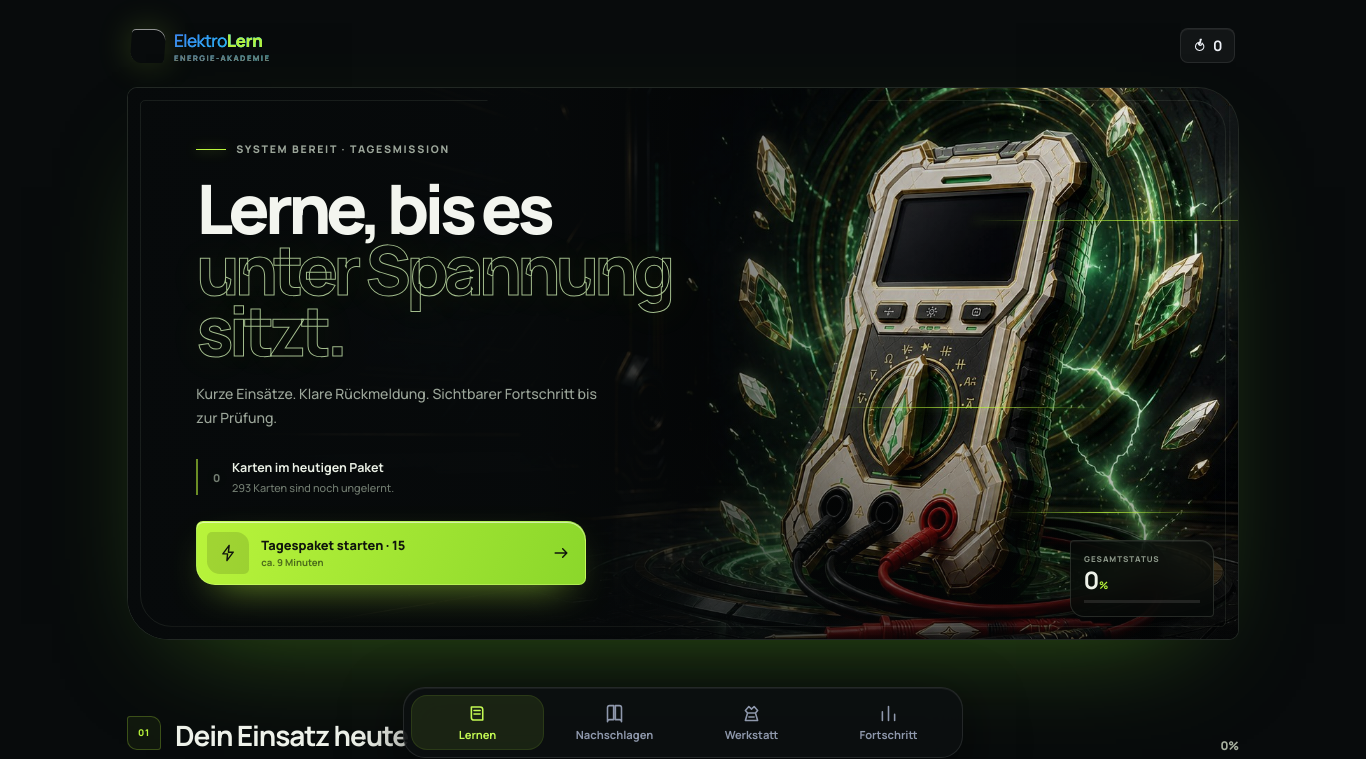
Test: App smoke test › öffnet die Werkstatt mit Energie-Kiste, Chancen und zehn Werkzeugen
The width and height of the screenshot is (1366, 759).
Click the button "Werkstatt". click: click(752, 722)
box: [685, 695, 818, 750]
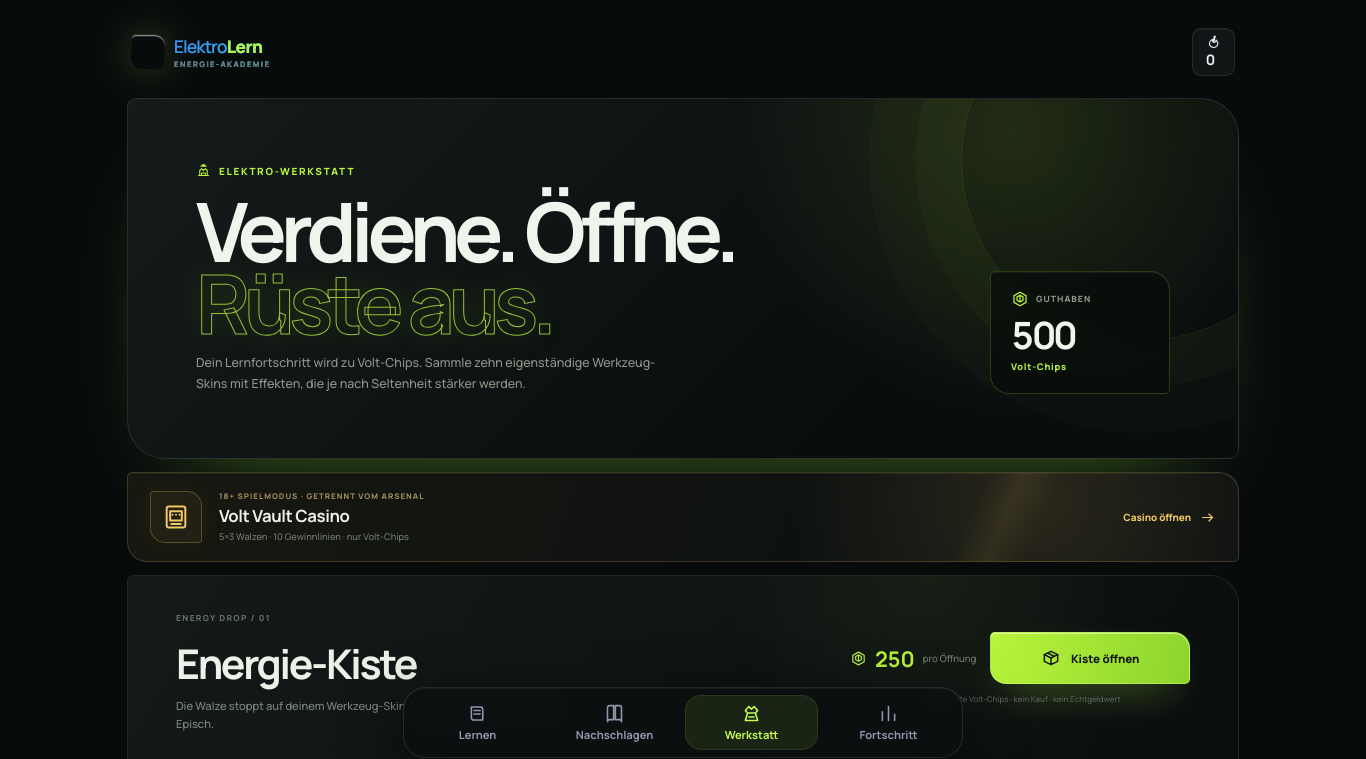
Check: the heading "Energie-Kiste" is shown, box [176, 635, 416, 691]
Check: the button "Kiste öffnen" is enabled, box [990, 632, 1190, 684]
